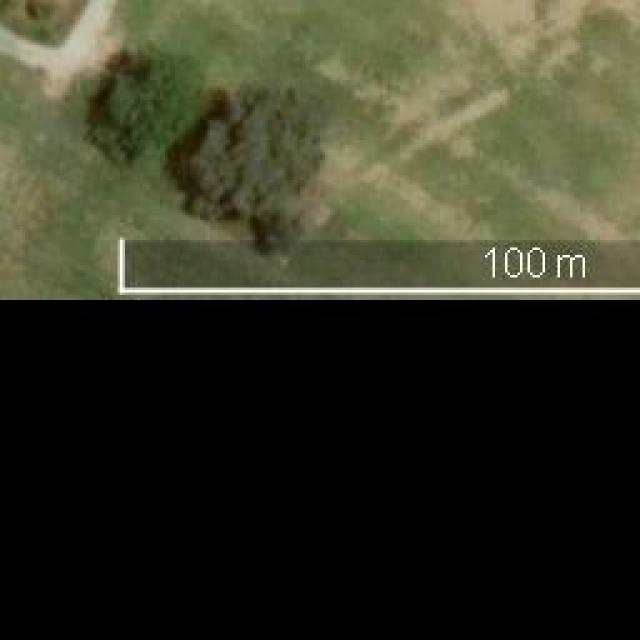Tree: (175, 95, 350, 265), (92, 38, 200, 161), (22, 0, 59, 22)
